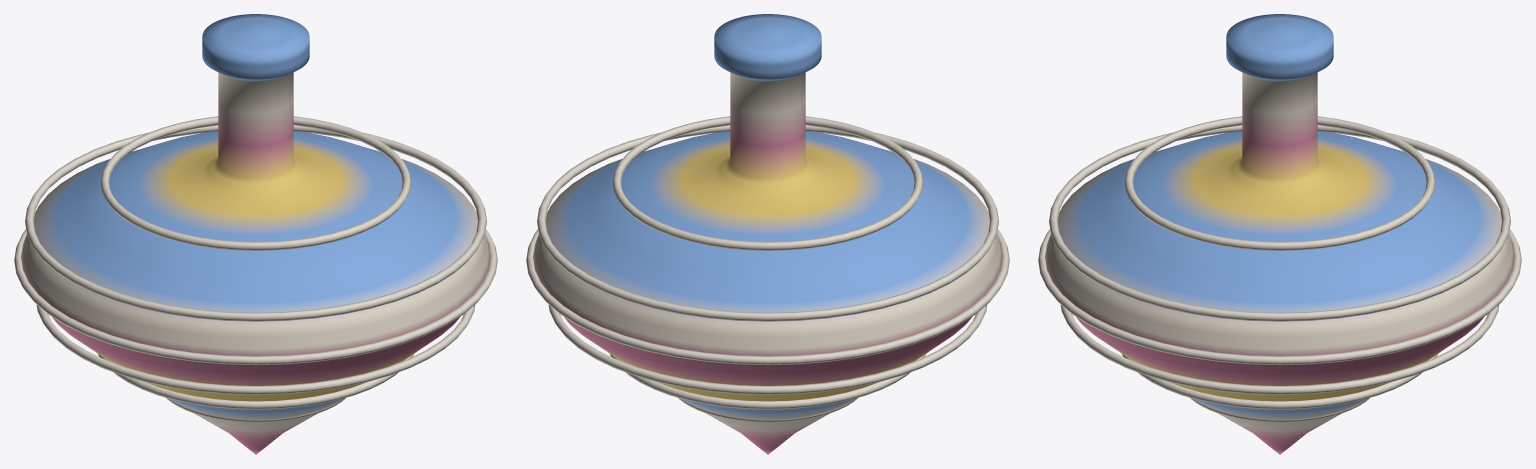
File: W6_Top_A.fbx
The picture shows the model from 3 angles, left to right: view 1: azimuth 30°, elevation 25°; view 2: azimuth 150°, elevation 25°; view 3: azimuth 270°, elevation 25°; orthographic projection.
Visible parts, largest first — view 1: W6_Top_A; view 2: W6_Top_A; view 3: W6_Top_A.
Boxes of the visible parts, left/top/right/bottom form: W6_Top_A: left=14, top=14, right=497, bottom=454; W6_Top_A: left=526, top=14, right=1009, bottom=454; W6_Top_A: left=1038, top=14, right=1521, bottom=454.
Size of the model in its own units: 0.4301 by 0.42 by 0.4301.
